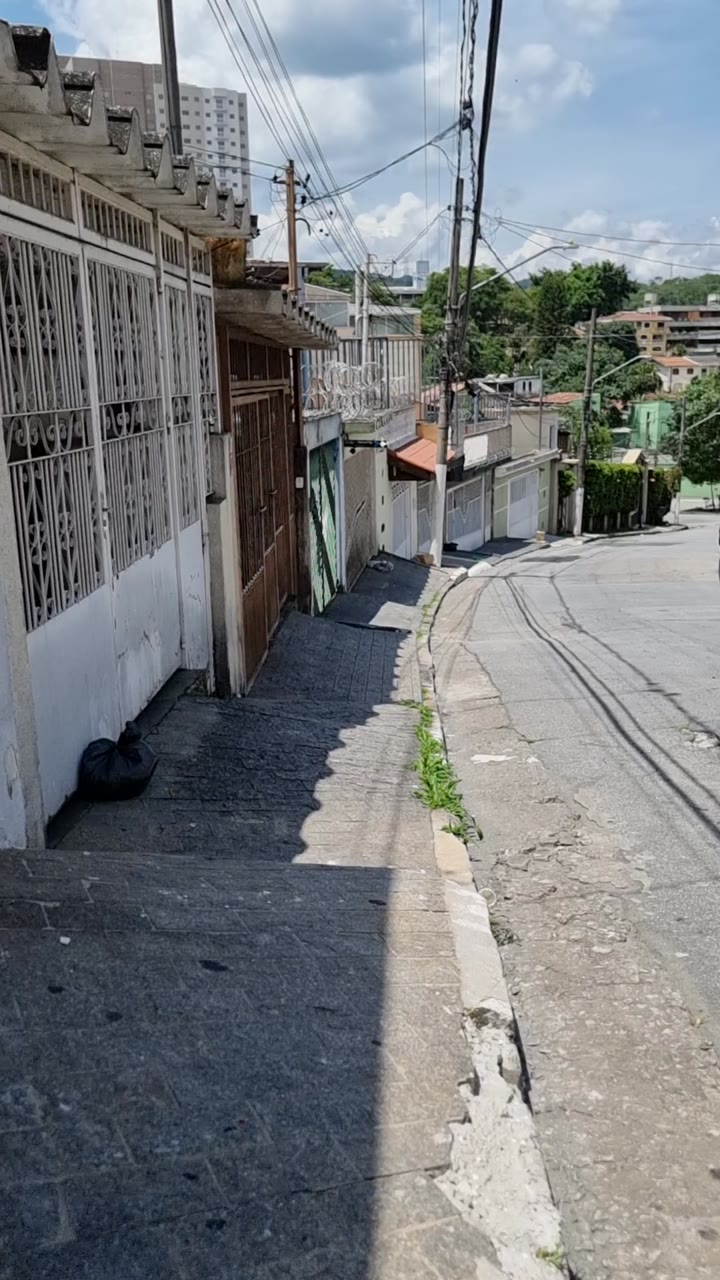obstaculo: (78, 722, 157, 801)
